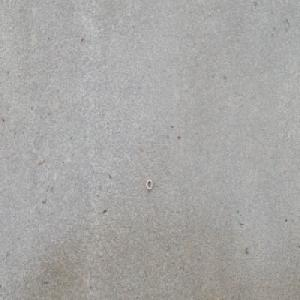Nut: (145, 178, 152, 190)
